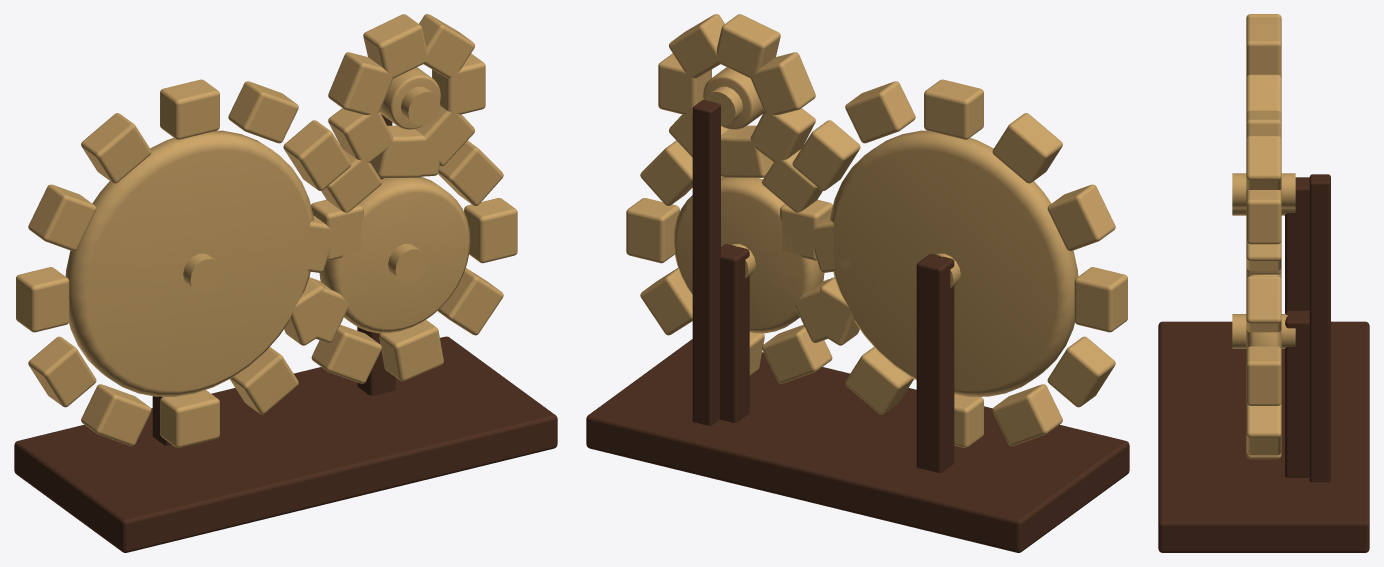
3 renders of one model, left to right at view 1: azimuth 30°, elevation 25°; view 2: azimuth 150°, elevation 25°; view 3: azimuth 270°, elevation 25°, orthographic. The views are drawn at different scales.
Size of the model in its own units: 0.76 by 0.6137 by 0.3.
